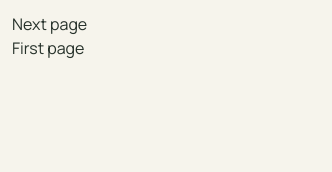
Test: presentation lifecycle › still navigates if native snapshot creation throws
The width and height of the screenshot is (332, 172).
Step 1. Click the link "Next page" → (50, 24), box [12, 13, 87, 35]
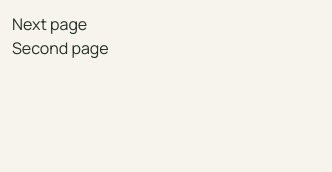
Expected: the heading "Second page" is shown, [12, 37, 109, 59]
